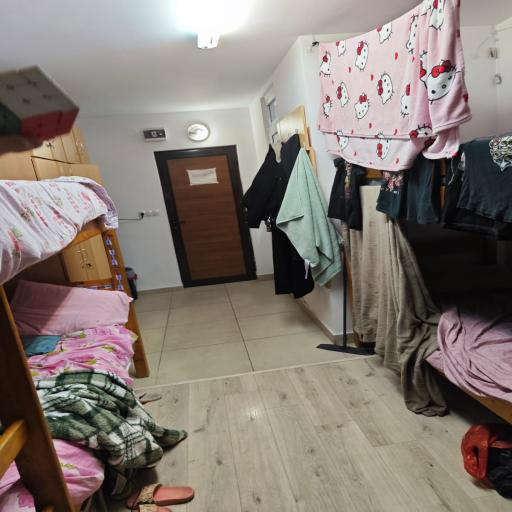Rubiks Cube: (0, 62, 82, 148)
